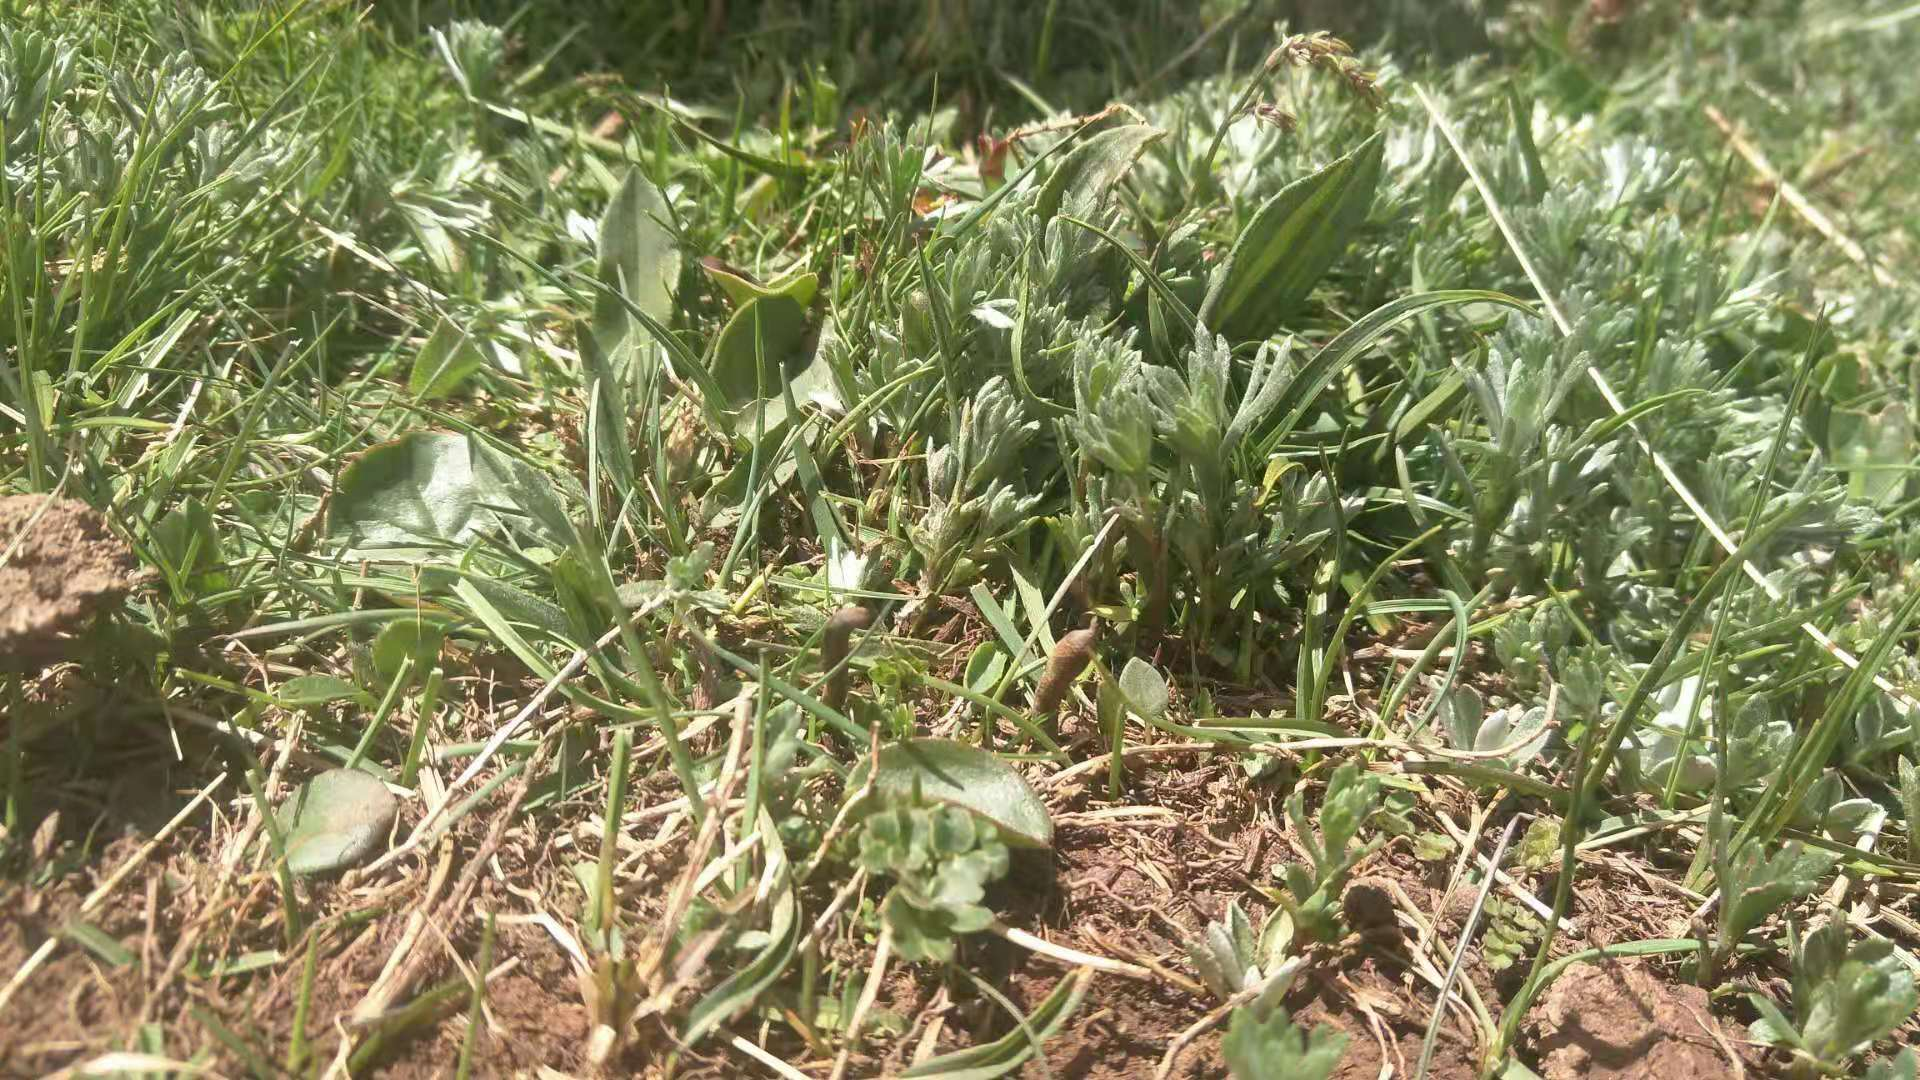cpf: (1015, 622, 1108, 745), (812, 609, 880, 721)
